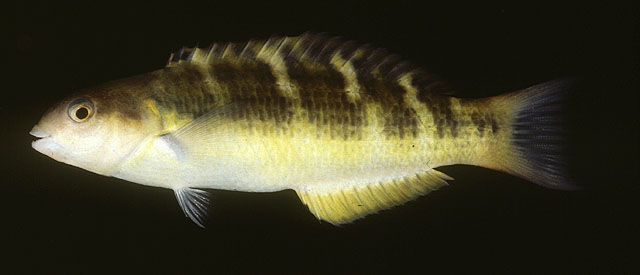fish: (28, 29, 576, 227)
